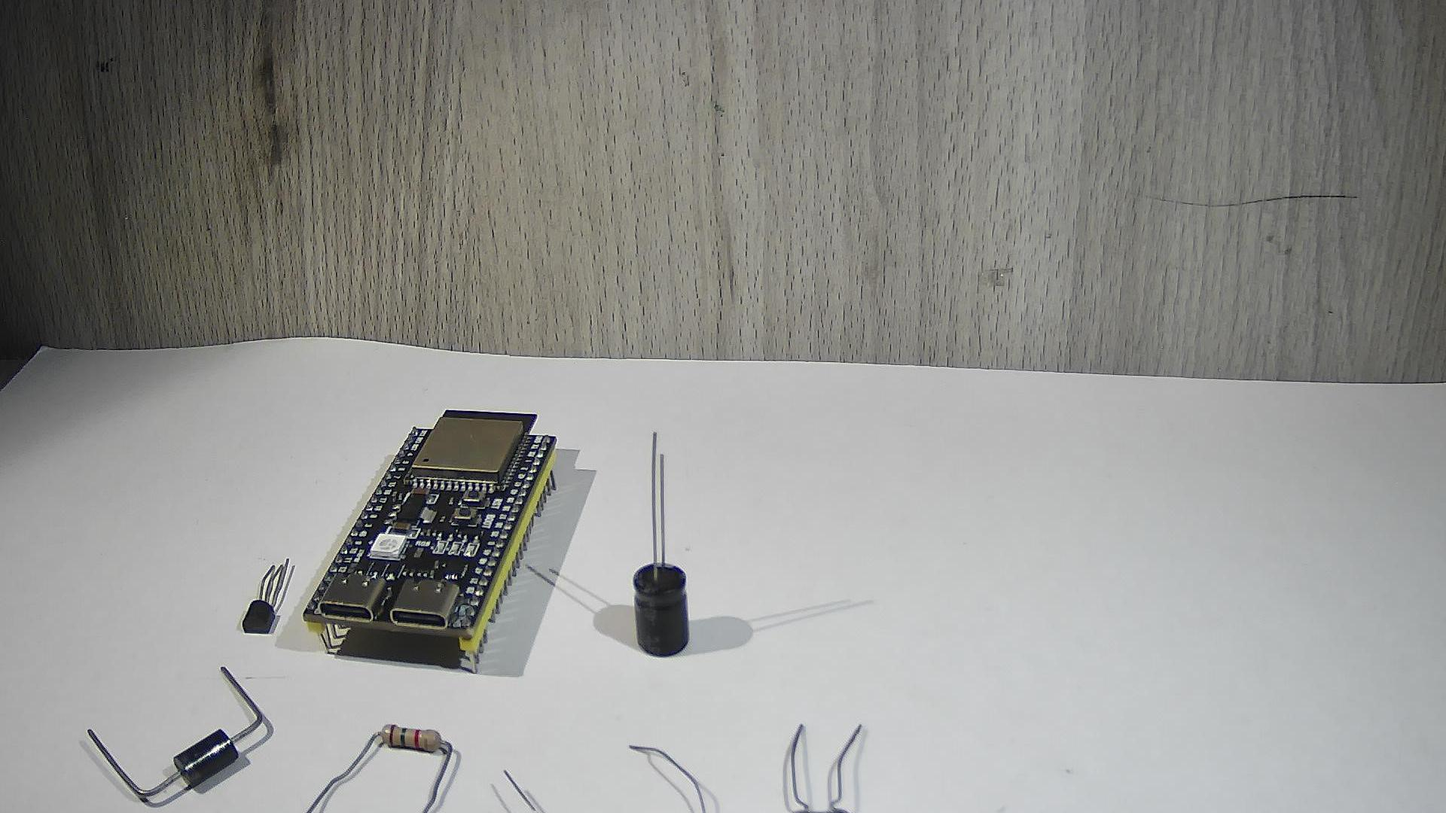Capacitor: (597, 478, 711, 663)
Diodo: (124, 680, 272, 813)
ESP32: (301, 377, 552, 667)
Resistencia: (325, 701, 488, 781)
Transistor: (219, 550, 294, 648)
capacitor ceramico: (775, 771, 874, 813)
